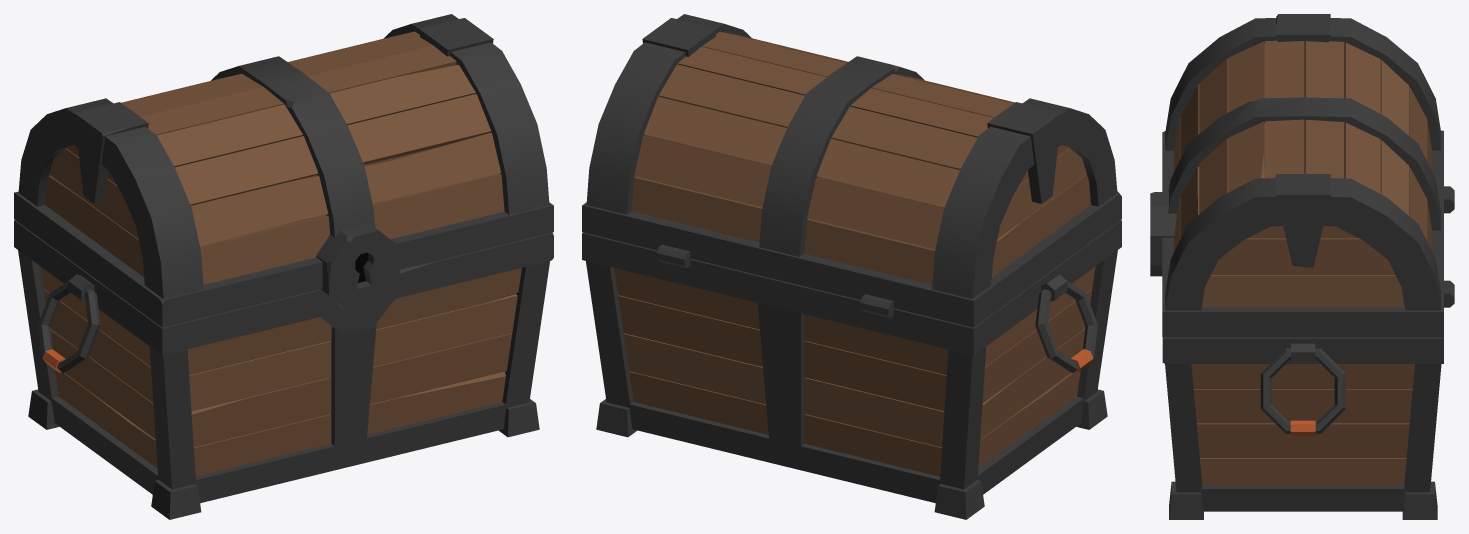
File: Chest_01.fbx
The picture shows the model from 3 angles, left to right: view 1: azimuth 30°, elevation 25°; view 2: azimuth 150°, elevation 25°; view 3: azimuth 270°, elevation 25°; orthographic projection. The views are drawn at different scales.
Parts seen in each view (by area): view 1: Chest_01_2_LOD0, Chest_01_1_LOD0; view 2: Chest_01_2_LOD0, Chest_01_1_LOD0; view 3: Chest_01_2_LOD0, Chest_01_1_LOD0.
Part boxes in pixels (<box>): Chest_01_2_LOD0: <box>14,14,553,327</box>; Chest_01_1_LOD0: <box>14,220,553,519</box>; Chest_01_2_LOD0: <box>582,14,1121,327</box>; Chest_01_1_LOD0: <box>582,220,1121,519</box>; Chest_01_2_LOD0: <box>1150,14,1443,337</box>; Chest_01_1_LOD0: <box>1162,186,1454,519</box>.
Size of what is drawn, in the model's own units: 0.9672 by 0.6827 by 0.5708.
